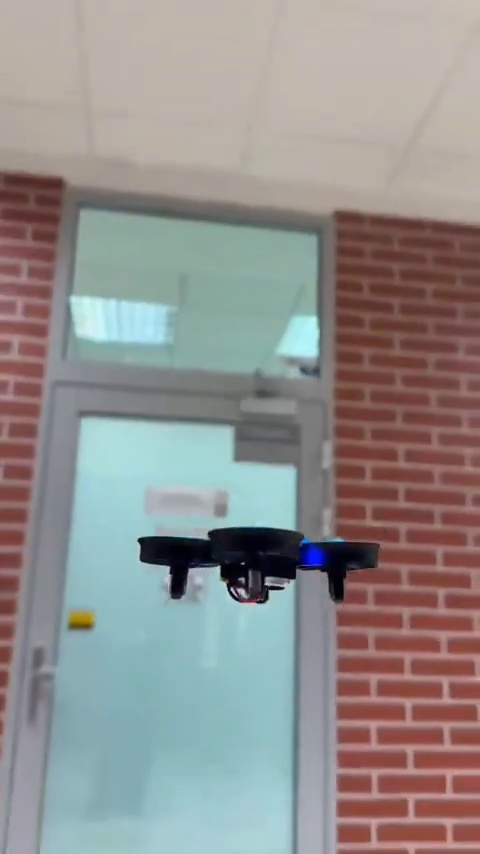drone: (137, 529, 381, 602)
